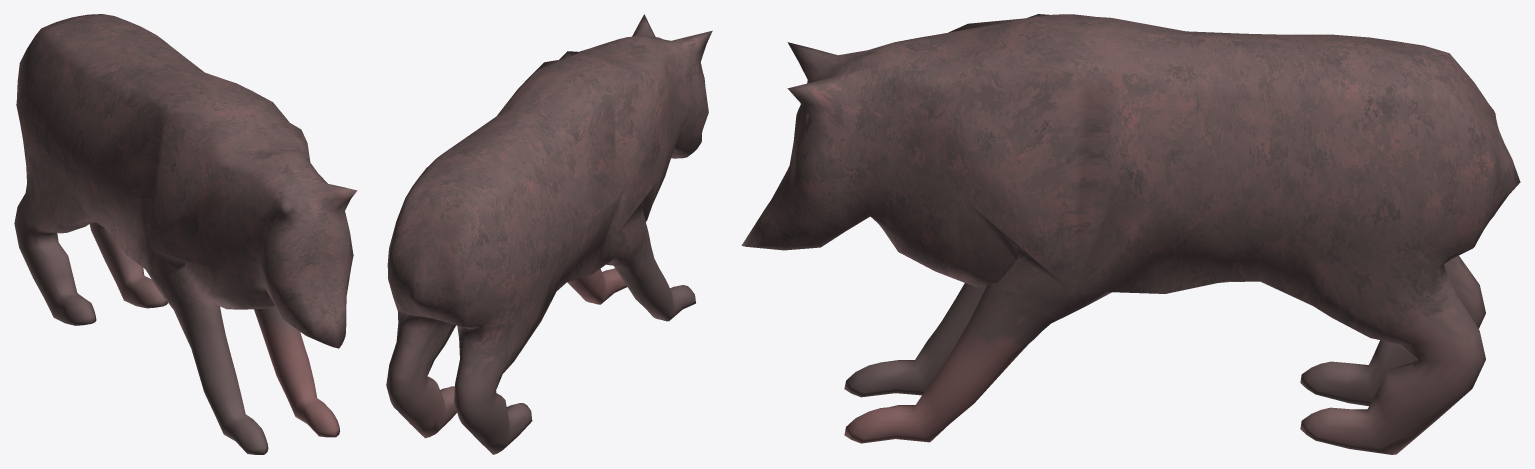
The model's file is piesblend_000036.obj.
3 renders of one model, left to right at view 1: azimuth 30°, elevation 25°; view 2: azimuth 150°, elevation 25°; view 3: azimuth 270°, elevation 25°, orthographic. The views are drawn at different scales.
Parts seen in each view (by area): view 1: Cube; view 2: Cube; view 3: Cube.
Boxes of the visible parts, x1=… form: Cube: x1=14, y1=14, x2=357, y2=454; Cube: x1=386, y1=14, x2=712, y2=454; Cube: x1=741, y1=14, x2=1520, y2=454.
Bounding box in the file's own units: 2.55 × 5.11 × 8.93.
1 material, 1 textured.
